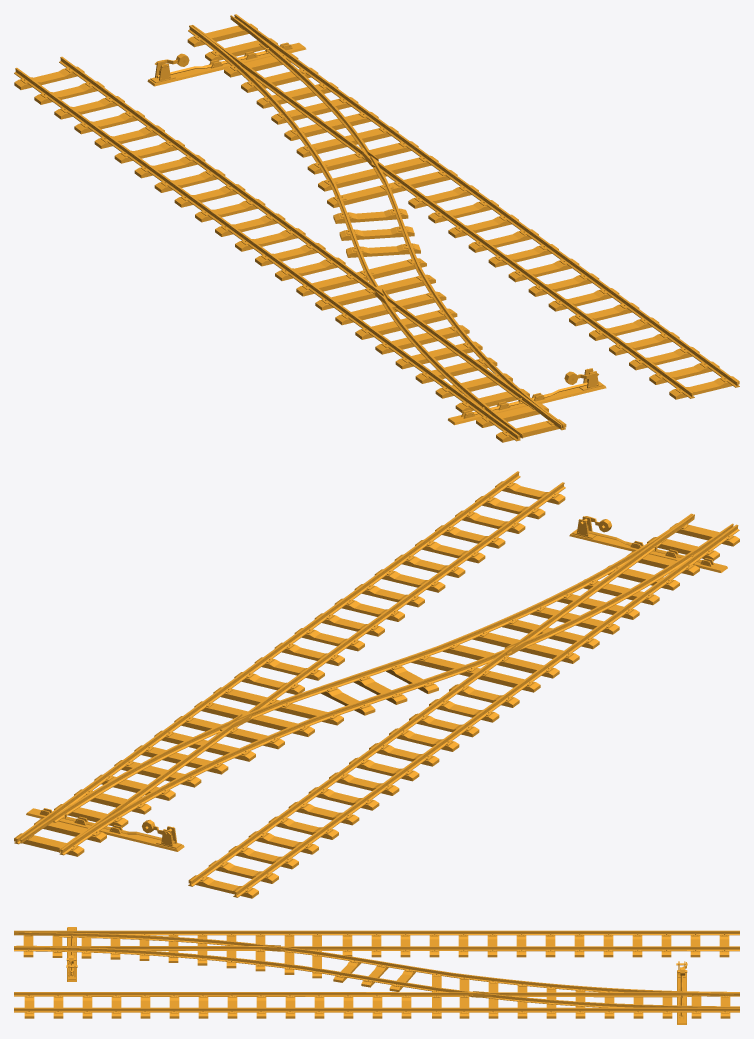
File: SM_Train_Rail_Switch_Double.fbx
3 views of the same model, one above another, from view 1: azimuth 30°, elevation 25°; view 2: azimuth 150°, elevation 25°; view 3: azimuth 270°, elevation 25° (orthographic). The views are drawn at different scales.
Parts seen in each view (by area): view 1: SM_Train_Rail_Switch_Double; view 2: SM_Train_Rail_Switch_Double; view 3: SM_Train_Rail_Switch_Double.
Part boxes in pixels (<box>): SM_Train_Rail_Switch_Double: <box>14,14,739,442</box>; SM_Train_Rail_Switch_Double: <box>14,471,739,898</box>; SM_Train_Rail_Switch_Double: <box>14,927,739,1024</box>.
Bounding box in the file's own units: 9.45 × 0.697 × 30.
